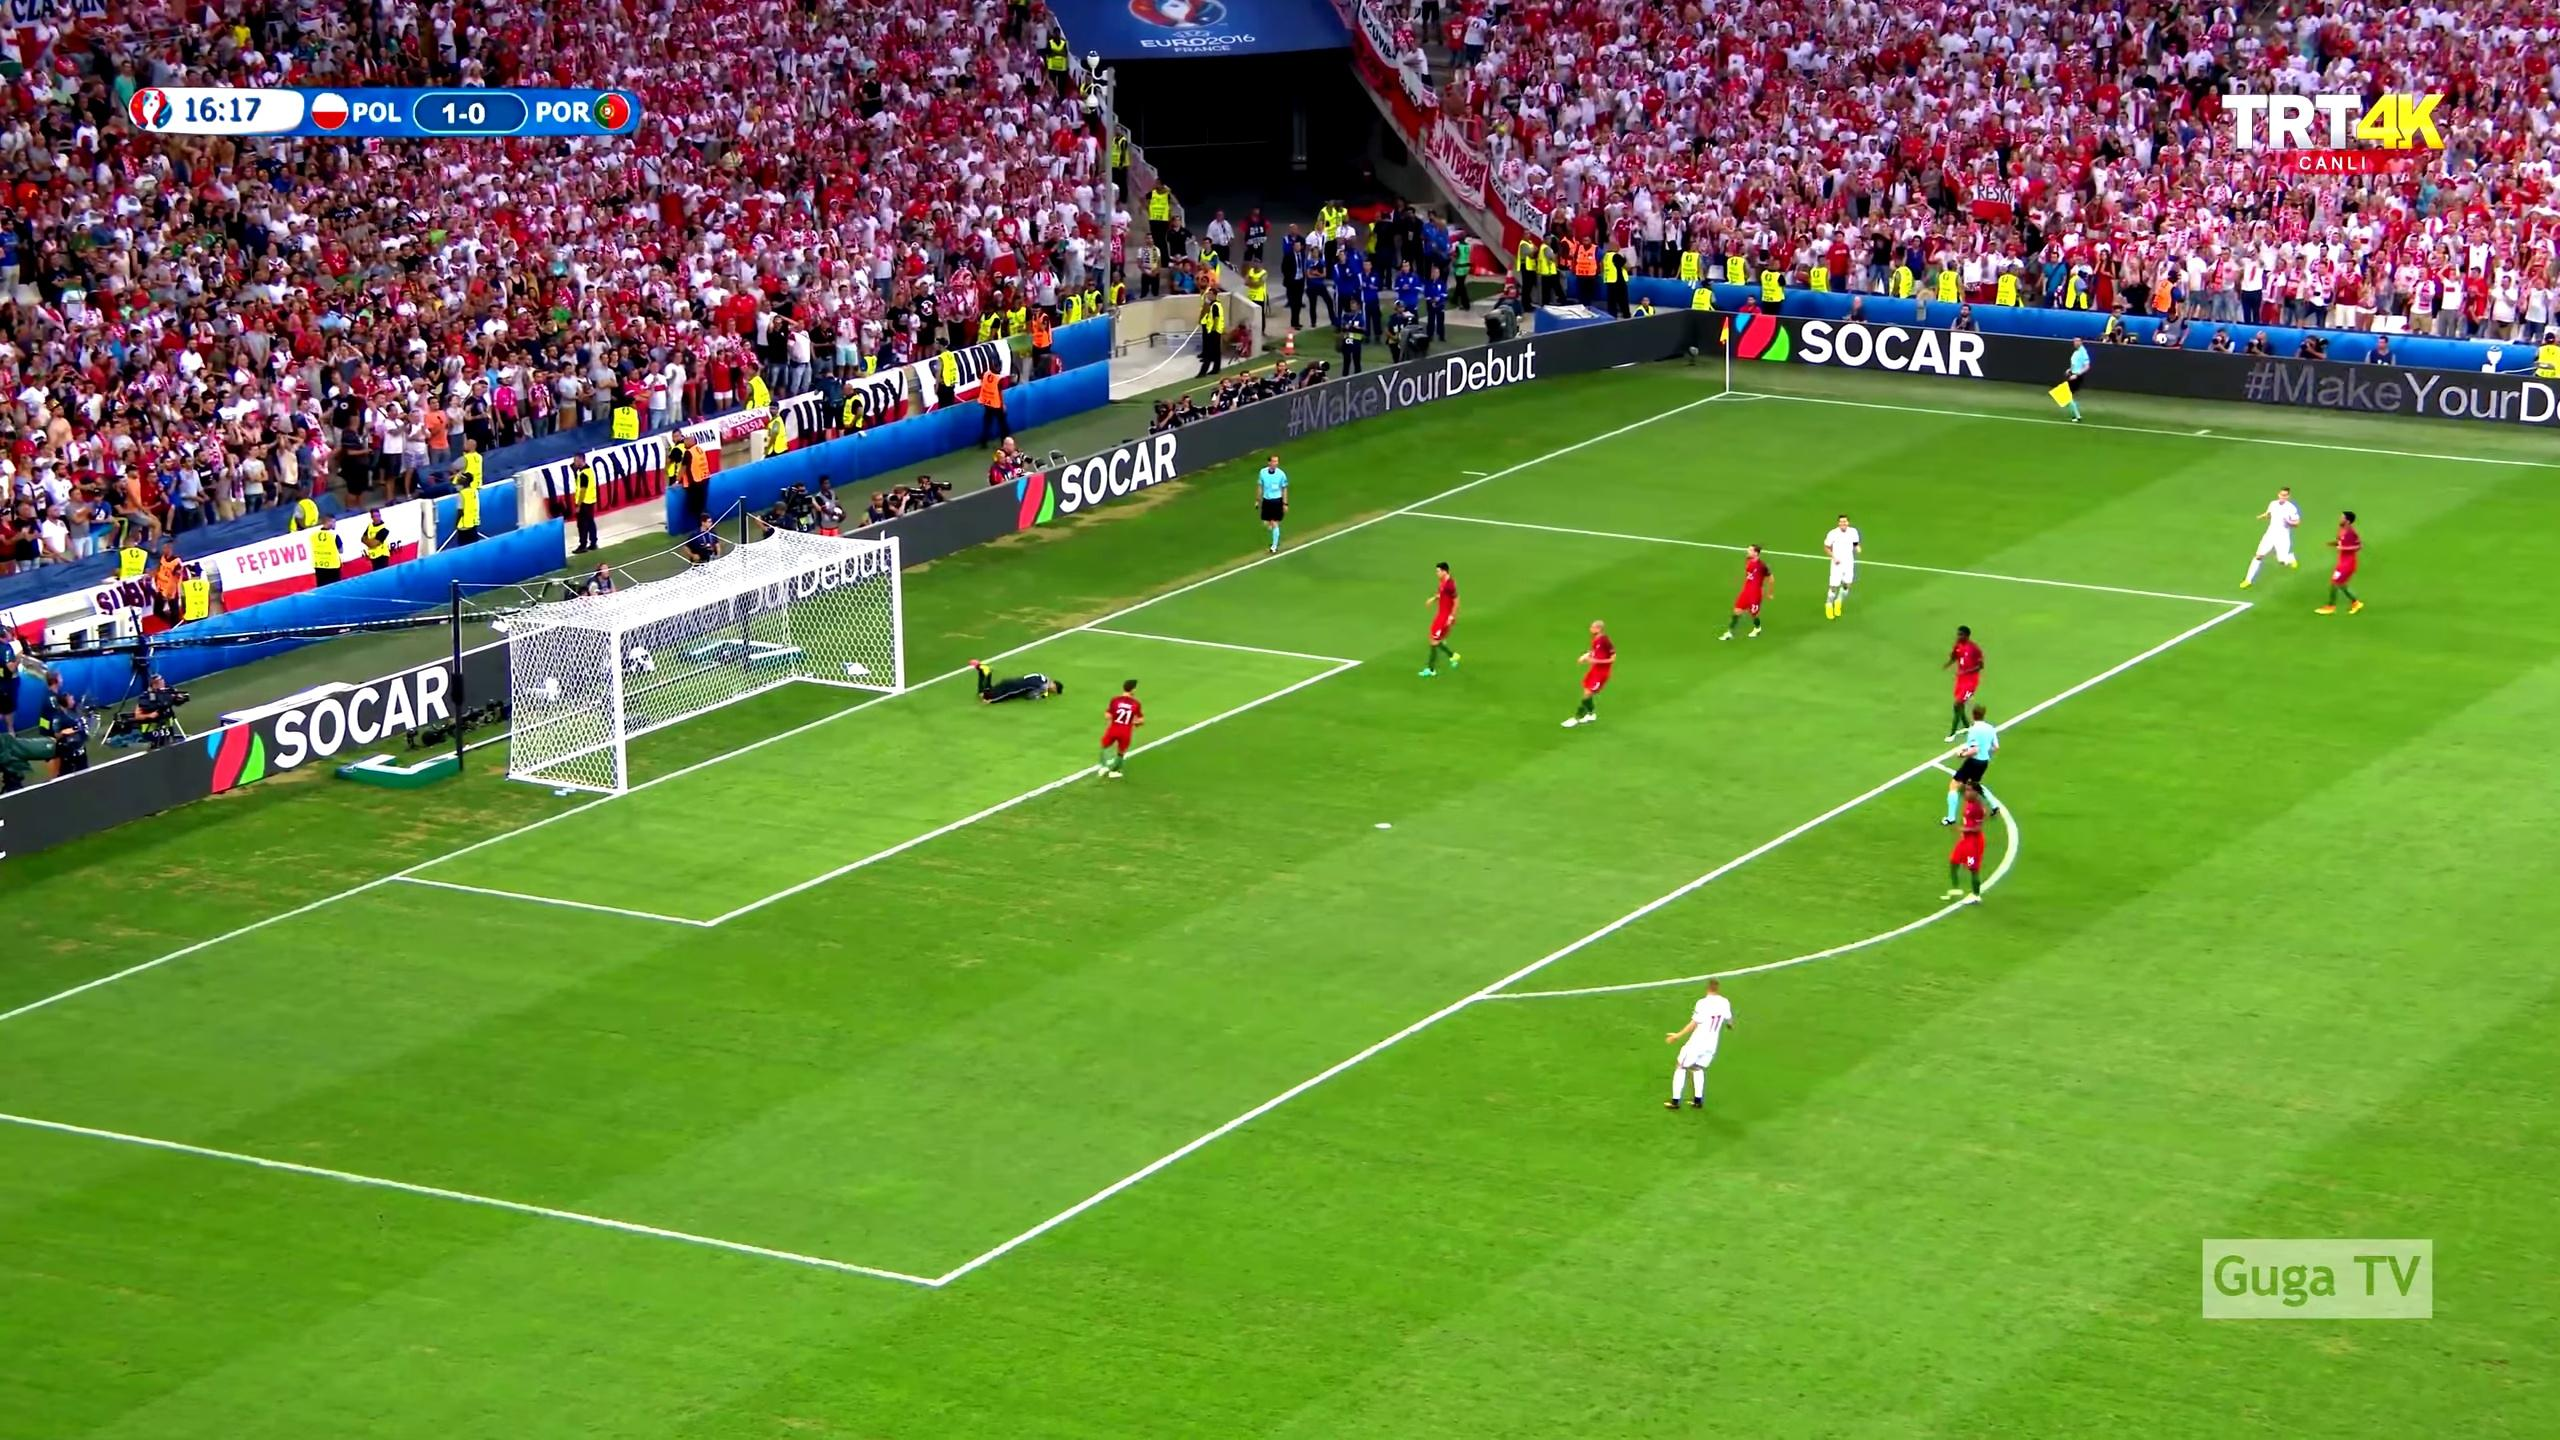goalkeeper: (964, 654, 1072, 710), (2046, 327, 2096, 428)
player: (1659, 973, 1741, 1113), (2234, 481, 2303, 591), (1559, 613, 1622, 732), (1937, 779, 1992, 911), (2310, 504, 2370, 621), (1413, 557, 1469, 682), (1715, 540, 1779, 646), (1091, 674, 1150, 784), (1936, 619, 1988, 743), (1816, 510, 1866, 625)
referee: (1936, 701, 2012, 824), (1251, 450, 1298, 562)
